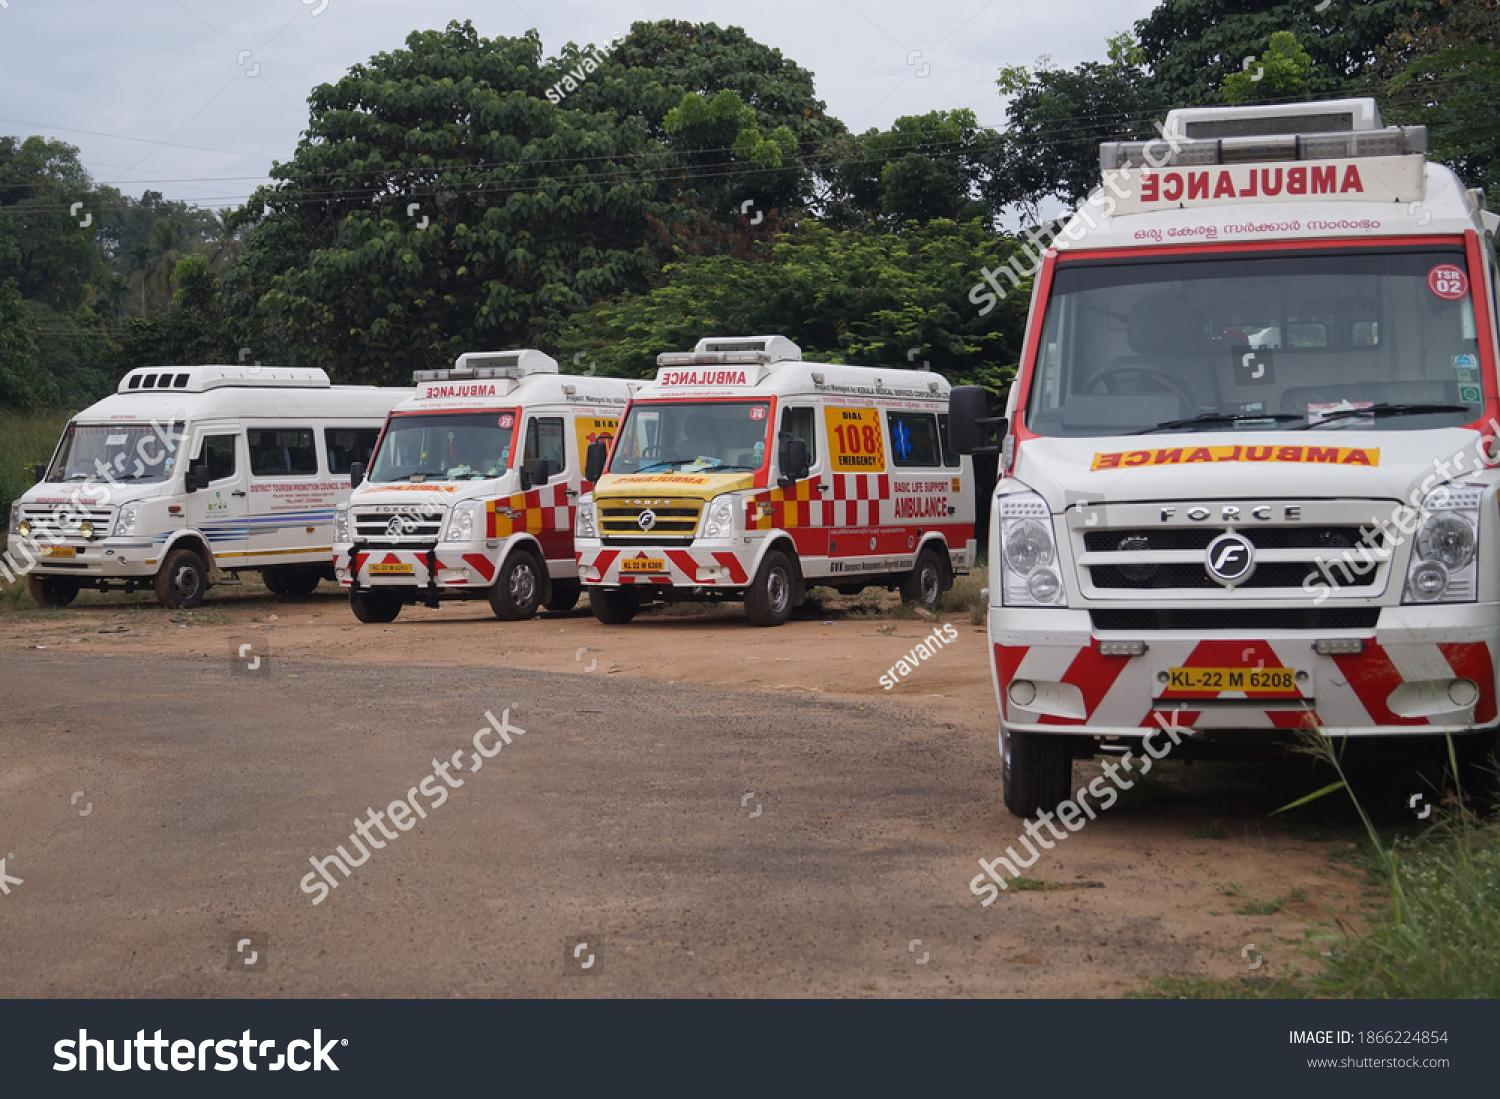ER: (977, 92, 1500, 815), (576, 335, 982, 629), (10, 363, 403, 603), (339, 348, 649, 610)
